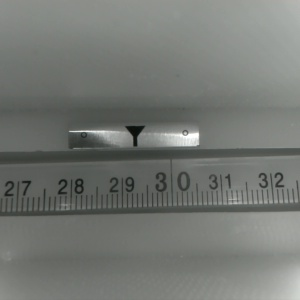0: (176, 171, 190, 191)
1: (225, 175, 231, 190)
2: (3, 180, 14, 197), (56, 179, 67, 195), (274, 172, 284, 188), (109, 177, 119, 193)
3: (155, 172, 167, 192), (257, 172, 267, 188), (208, 175, 217, 190)
7: (20, 180, 31, 196)
8: (74, 178, 84, 194)
9: (125, 176, 135, 193)
finger: (122, 125, 145, 146)
